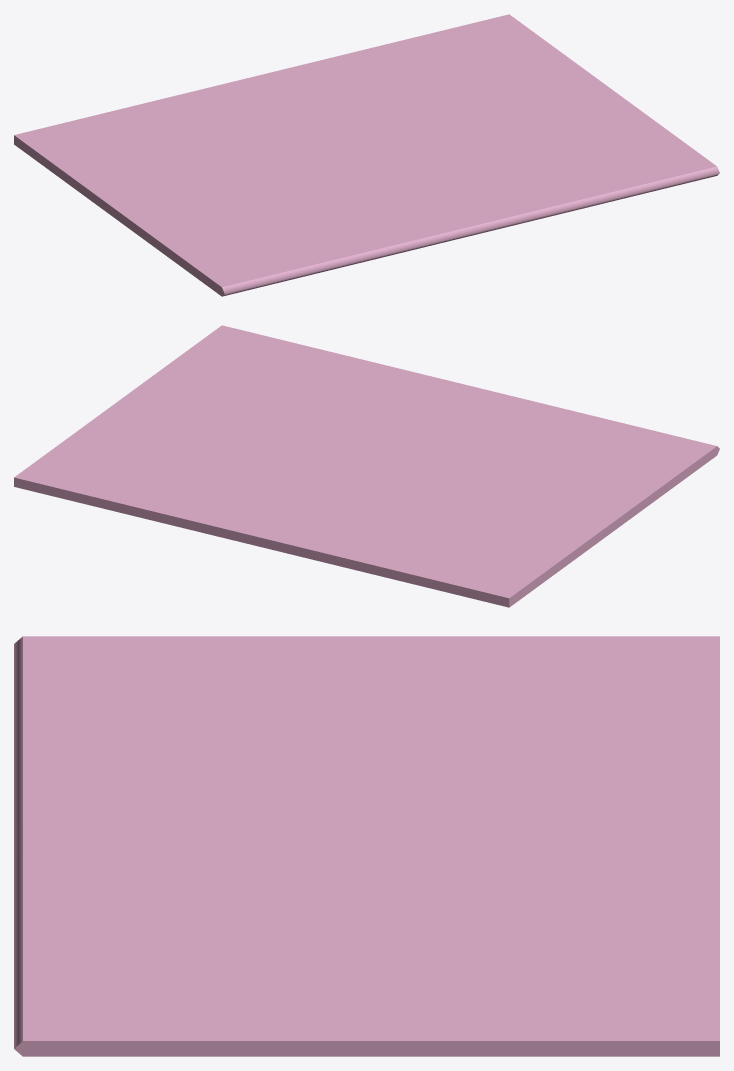
File: magazine.fbx
The picture shows the model from 3 angles, top to bottom: view 1: azimuth 30°, elevation 25°; view 2: azimuth 150°, elevation 25°; view 3: azimuth 270°, elevation 25°; orthographic projection. The views are drawn at different scales.
Parts seen in each view (by area): view 1: magazine; view 2: magazine; view 3: magazine.
Boxes of the visible parts, <box> form: magazine: <box>14,14,719,296</box>; magazine: <box>14,325,719,607</box>; magazine: <box>14,636,719,1056</box>.
Bounding box in the file's own units: 1367 × 24.64 × 1007.
